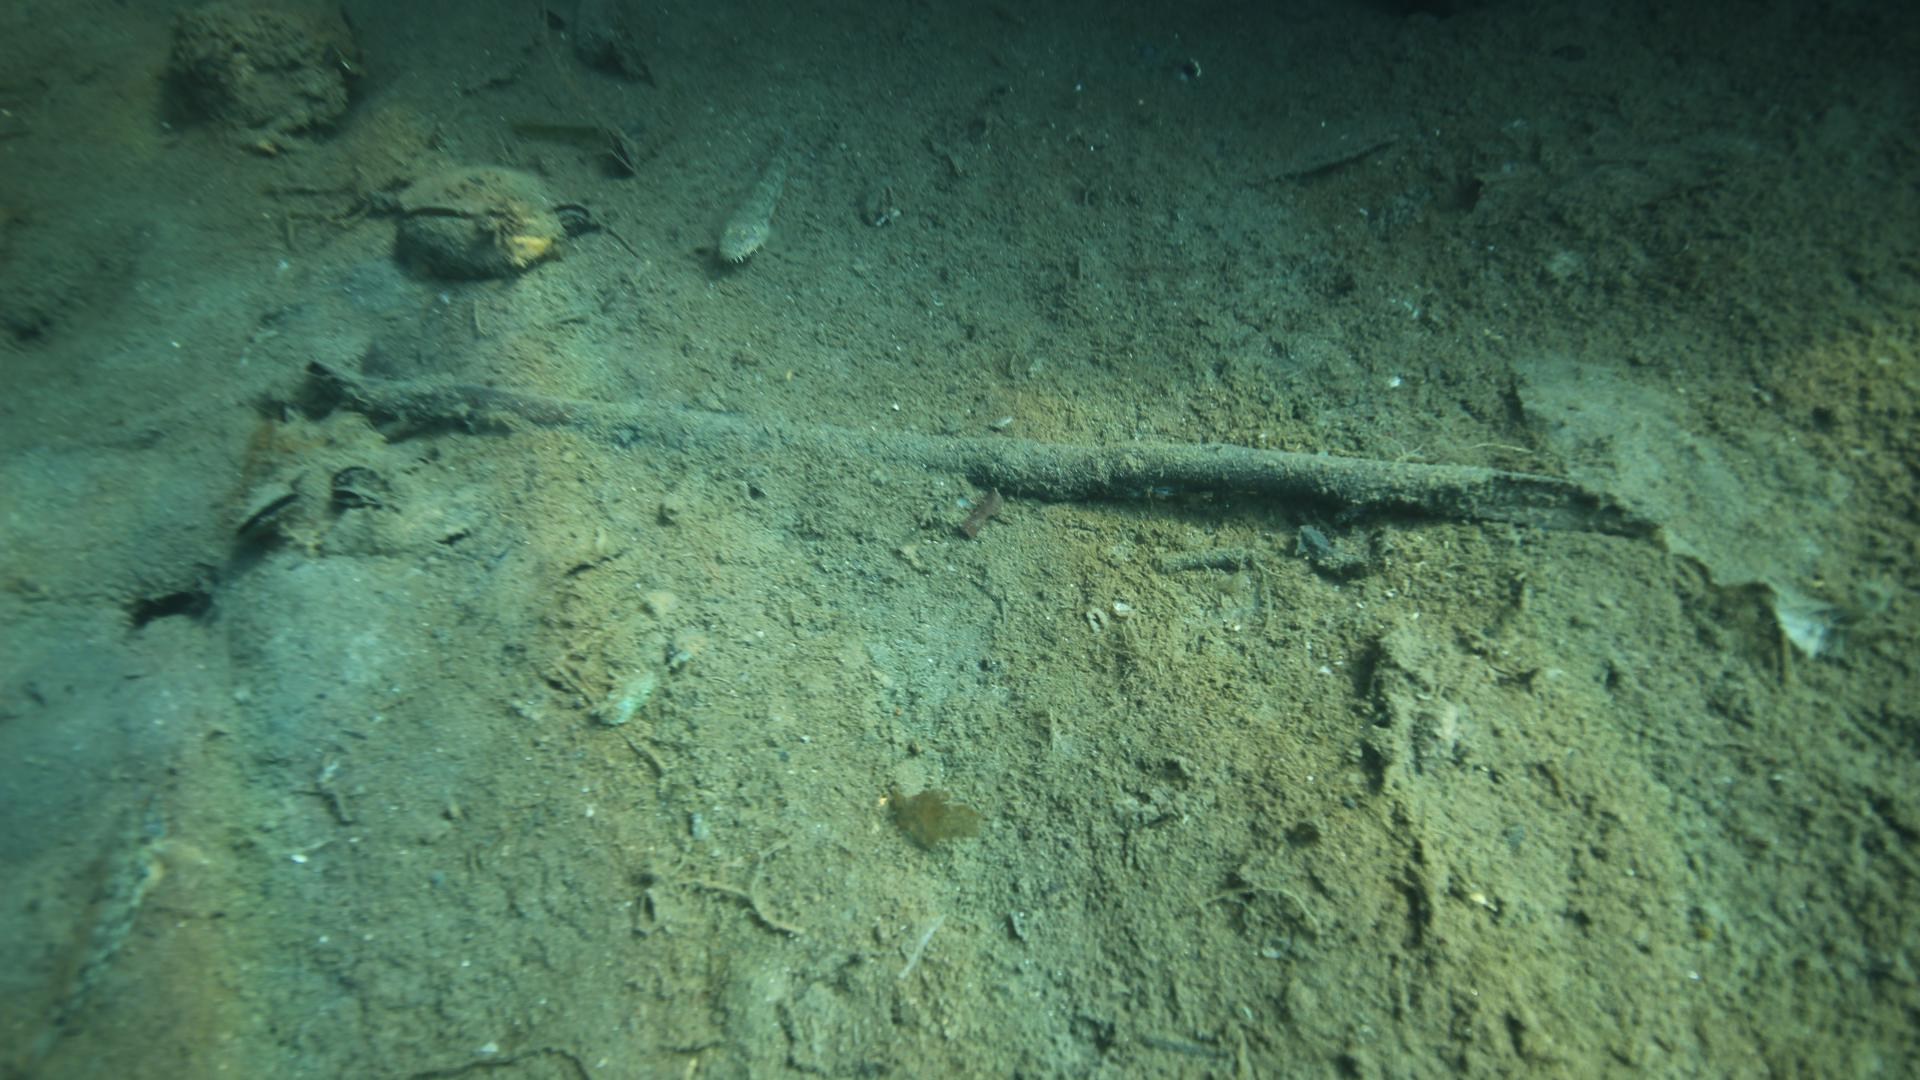wood: (301, 355, 1662, 541)
